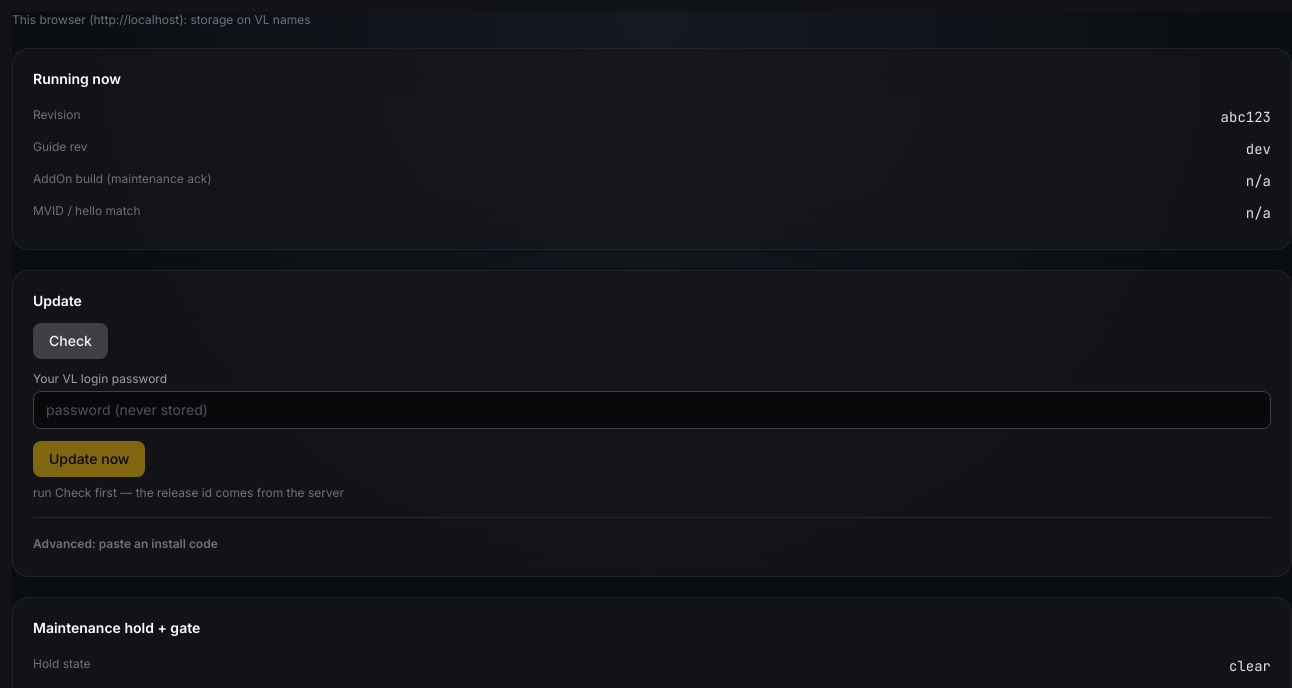
Test: UpdatesPage › shows the rate-limited line when check says so
Check: the button "Update now" is shown, box [33,441,146,477]
Click the button with test id "check-button" at (70, 341), box [33,323,108,359]
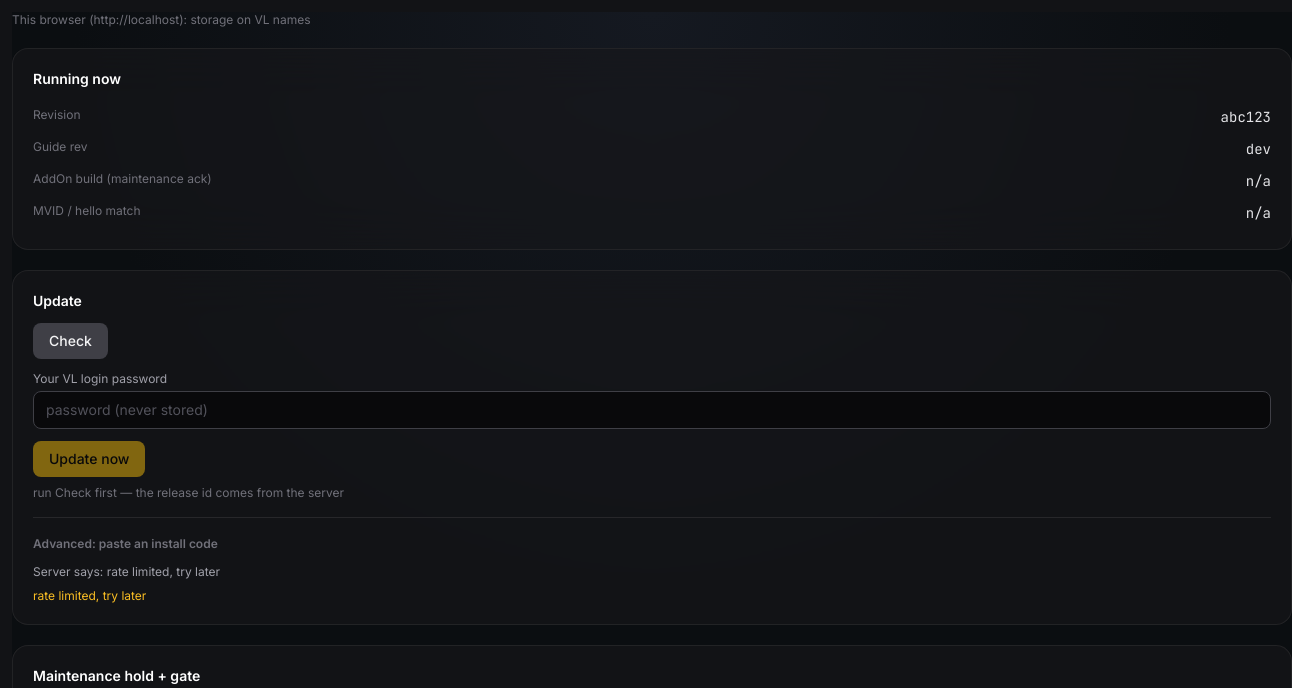
Check: the text "rate limited, try later" is shown, box [33,588,146,603]
